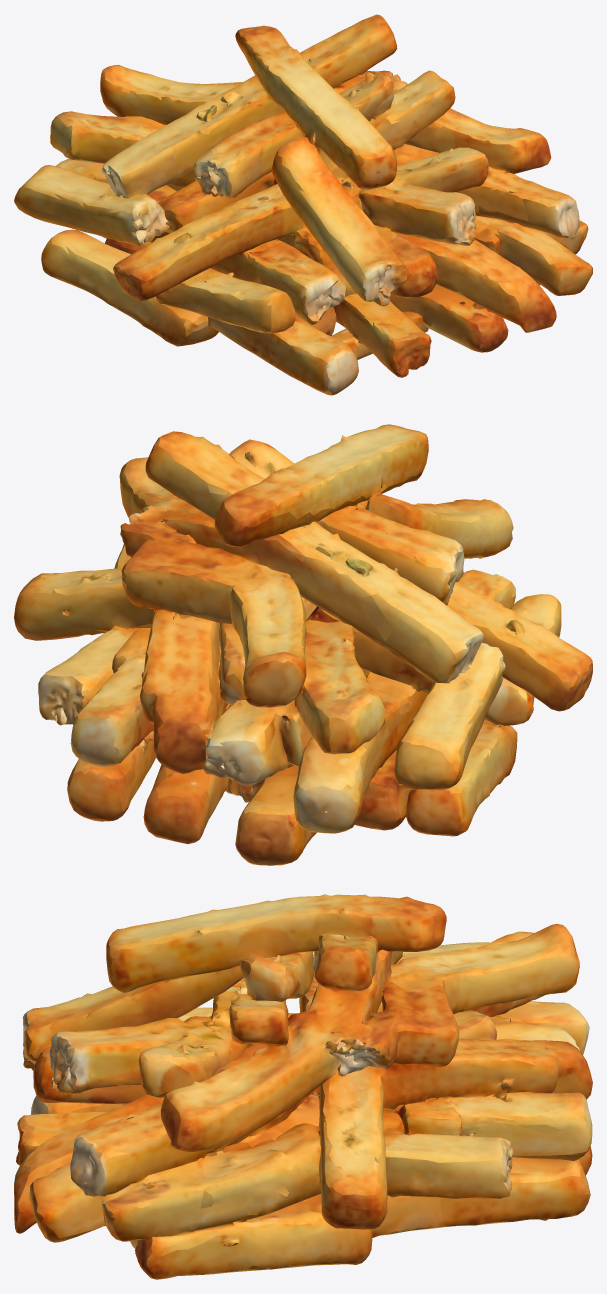
The picture shows the model from 3 angles, top to bottom: view 1: azimuth 30°, elevation 25°; view 2: azimuth 150°, elevation 25°; view 3: azimuth 270°, elevation 25°; orthographic projection. The views are drawn at different scales.
Parts seen in each view (by area): view 1: geometry_0; view 2: geometry_0; view 3: geometry_0.
Boxes of the visible parts, x1,y1,x2,y2 form: geometry_0: [14, 14, 592, 395]; geometry_0: [14, 424, 592, 865]; geometry_0: [14, 894, 592, 1279].
Bounding box in the file's own units: 0.07 × 0.0399 × 0.0701.
Materials: 1 (1 with a texture image).
